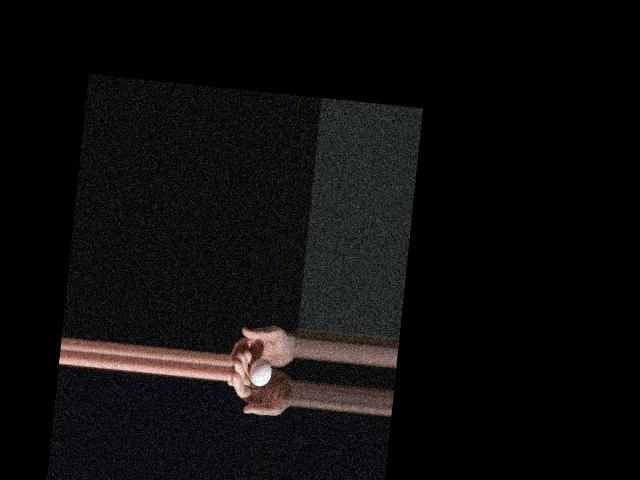egg: (248, 357, 273, 387)
